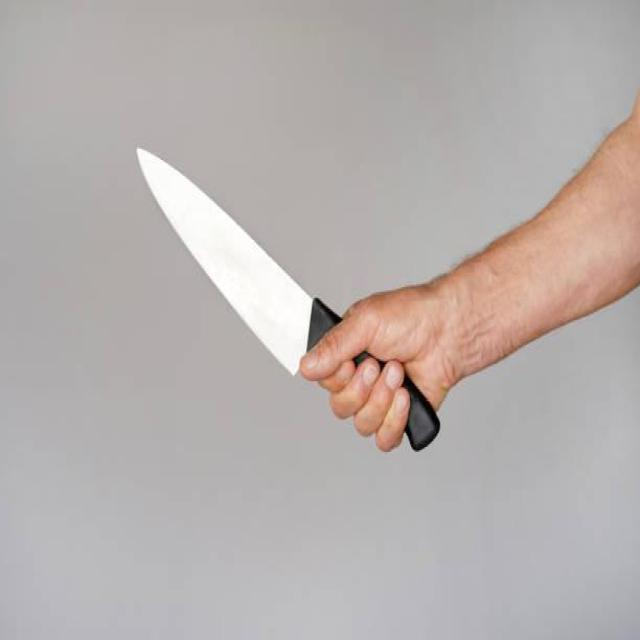faca: (132, 128, 470, 496)
